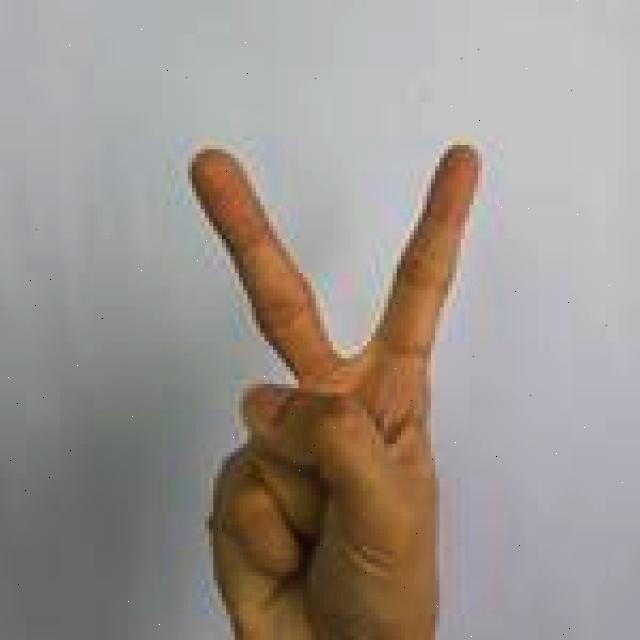V: (176, 135, 487, 640)
